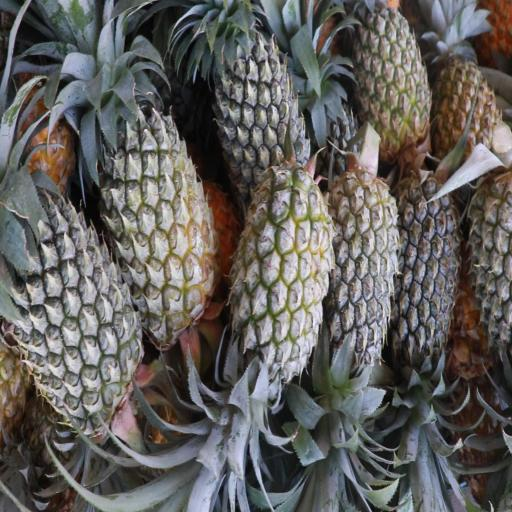------------------------------: (100, 105, 217, 322), (236, 162, 330, 384), (354, 0, 430, 154), (429, 31, 501, 175)
